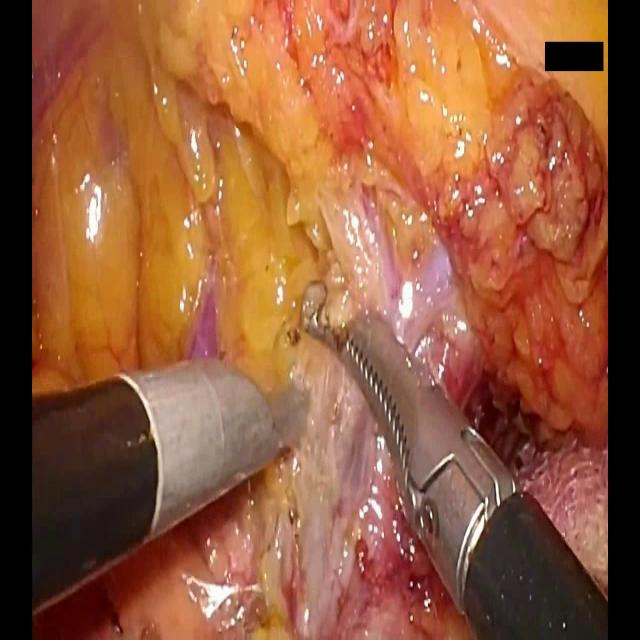surgical-area: (30, 0, 610, 639)
surgical-tool: (299, 281, 610, 639), (30, 356, 314, 619)
